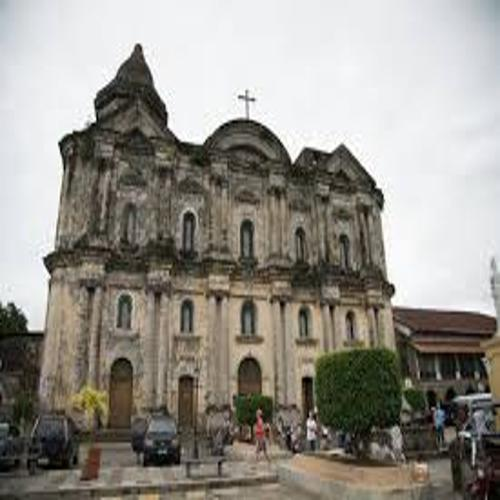Taal Basilica Church: (33, 35, 404, 445)
